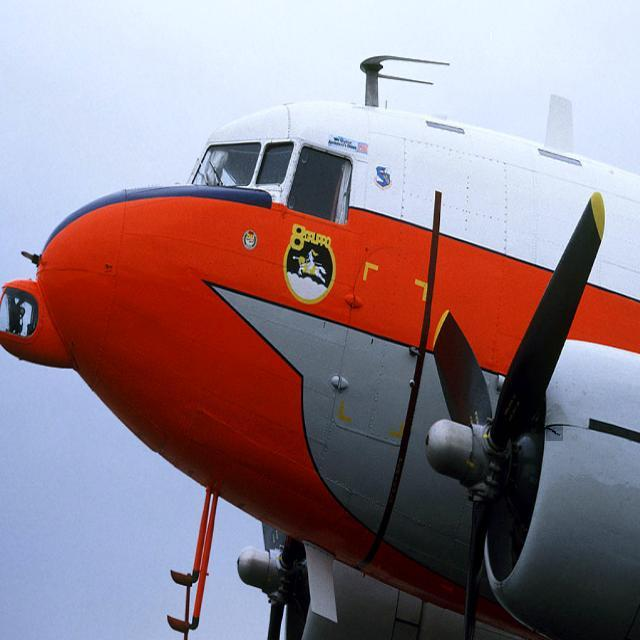crack: (547, 426, 564, 442)
